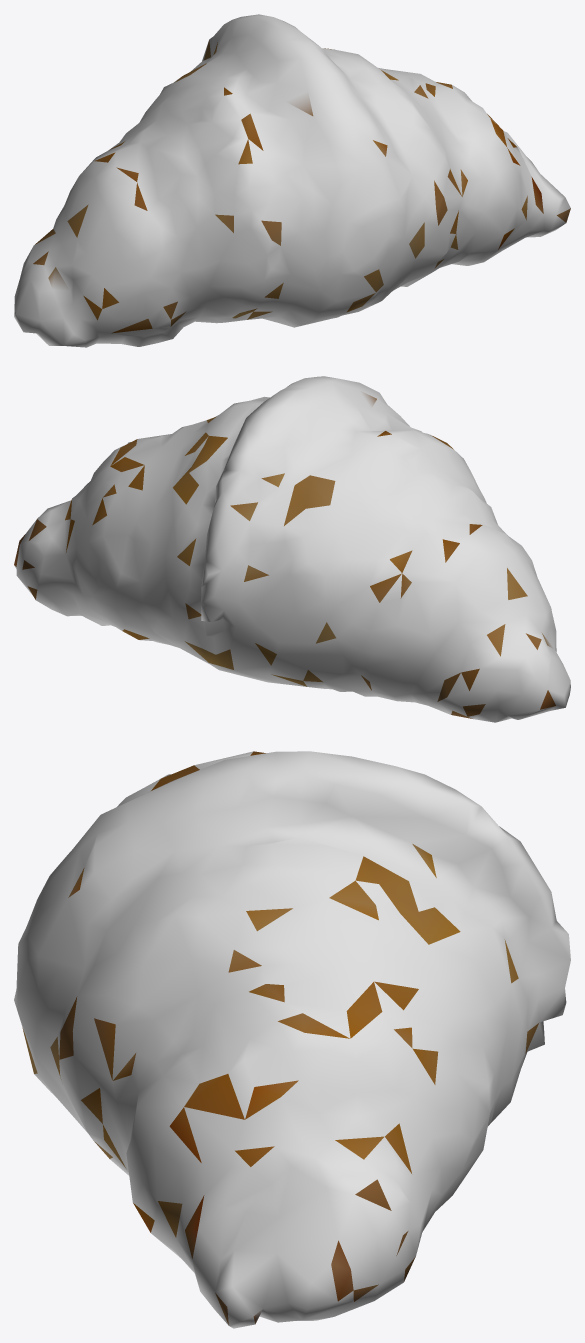
The model's file is SM_Croissant_02a.fbx.
3 views of the same model, one above another, from view 1: azimuth 30°, elevation 25°; view 2: azimuth 150°, elevation 25°; view 3: azimuth 270°, elevation 25° (orthographic). The views are drawn at different scales.
Visible parts, largest first — view 1: SM_Croissant_02a; view 2: SM_Croissant_02a; view 3: SM_Croissant_02a.
Part boxes in pixels (x1,y1,x2,y2): SM_Croissant_02a: (14,14,570,347); SM_Croissant_02a: (14,376,570,722); SM_Croissant_02a: (14,751,570,1328).
Bounding box in the file's own units: 20.16 × 9.25 × 11.74.
